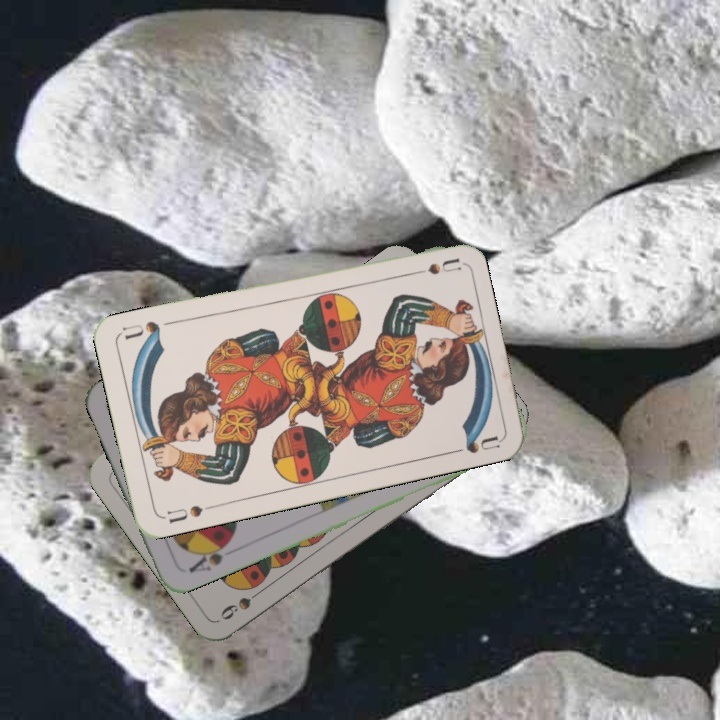S9: (216, 583, 268, 623)
SA: (184, 536, 233, 576)
SU: (401, 255, 461, 279), (163, 501, 218, 526)
